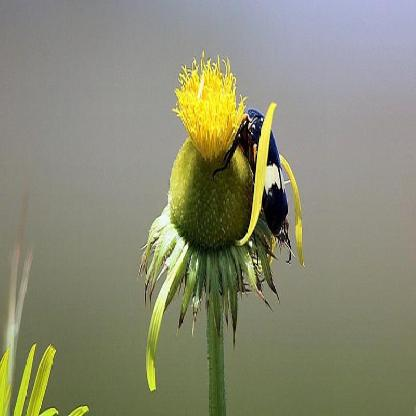beetle: (228, 97, 293, 262)
